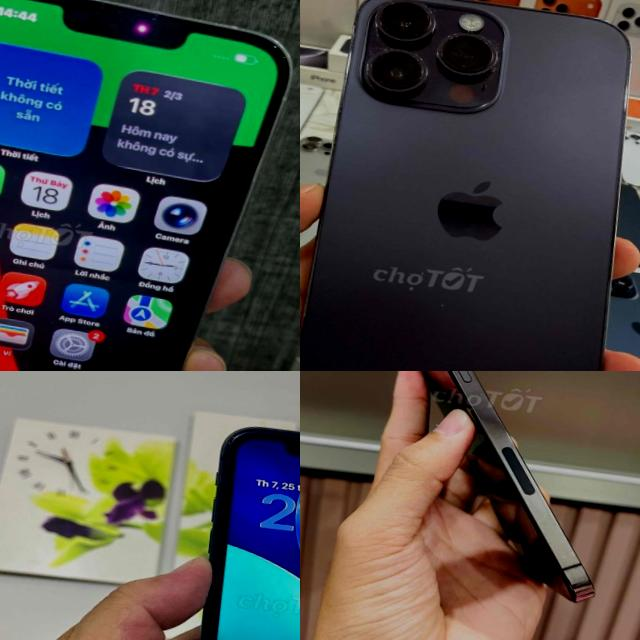gen_11: (179, 417, 300, 640)
gen_12_13: (0, 0, 300, 371), (334, 371, 638, 609)
gen_14: (300, 0, 640, 371)
